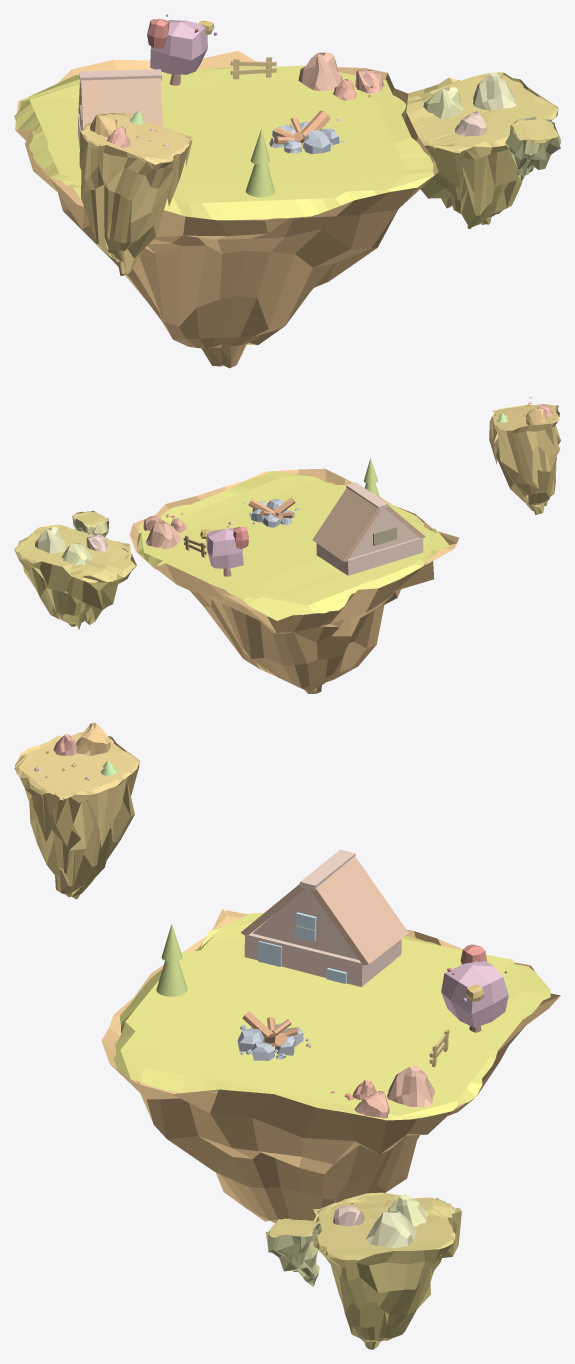
File: rocks.gltf
3 renders of one model, top to bottom at view 1: azimuth 30°, elevation 25°; view 2: azimuth 150°, elevation 25°; view 3: azimuth 270°, elevation 25°, orthographic. The views are drawn at different scales.
Parts seen in each view (by area): view 1: MiddleRock, Plane.003, Plane.002, House, Cube.003, Fireplace, Plane, Plane.010, Cube.002, Plane.011, Cube.004, Plane.009 (+2 smaller); view 2: MiddleRock, Plane.003, House, Plane.002, Cube.003, Fireplace, Plane, Plane.010, Plane.011; view 3: MiddleRock, Plane.003, House, Plane.002, Cube.003, Fireplace, Plane, Plane.010, Cube.002, Plane.015.
Boxes of the visible parts, x1,y1,x2,y2 form: MiddleRock: (14, 50, 438, 368); Plane.003: (406, 72, 560, 228); Plane.002: (79, 112, 192, 275); House: (78, 69, 162, 148); Cube.003: (147, 14, 217, 85); Fireplace: (269, 110, 339, 153); Plane: (298, 52, 342, 90); Plane.010: (473, 72, 516, 110); Cube.002: (245, 129, 274, 197); Plane.011: (423, 87, 463, 118); Cube.004: (230, 57, 276, 79); Plane.009: (455, 111, 486, 136); MiddleRock: (129, 468, 458, 693); Plane.003: (14, 510, 136, 629); House: (312, 482, 425, 575); Plane.002: (489, 404, 560, 514); Cube.003: (200, 522, 248, 576); Fireplace: (248, 497, 295, 527); Plane: (146, 522, 181, 548); Plane.010: (35, 527, 66, 553); Plane.011: (62, 543, 92, 565); MiddleRock: (101, 908, 560, 1223); Plane.003: (265, 1192, 461, 1349); House: (240, 849, 408, 987); Plane.002: (14, 732, 139, 899); Cube.003: (441, 944, 508, 1032); Fireplace: (237, 1011, 303, 1060); Plane: (387, 1065, 435, 1107); Plane.010: (366, 1211, 416, 1248); Cube.002: (156, 924, 187, 996); Plane.015: (76, 722, 110, 756).
Size of the model in its own units: 1.27 by 0.7633 by 0.9428.
